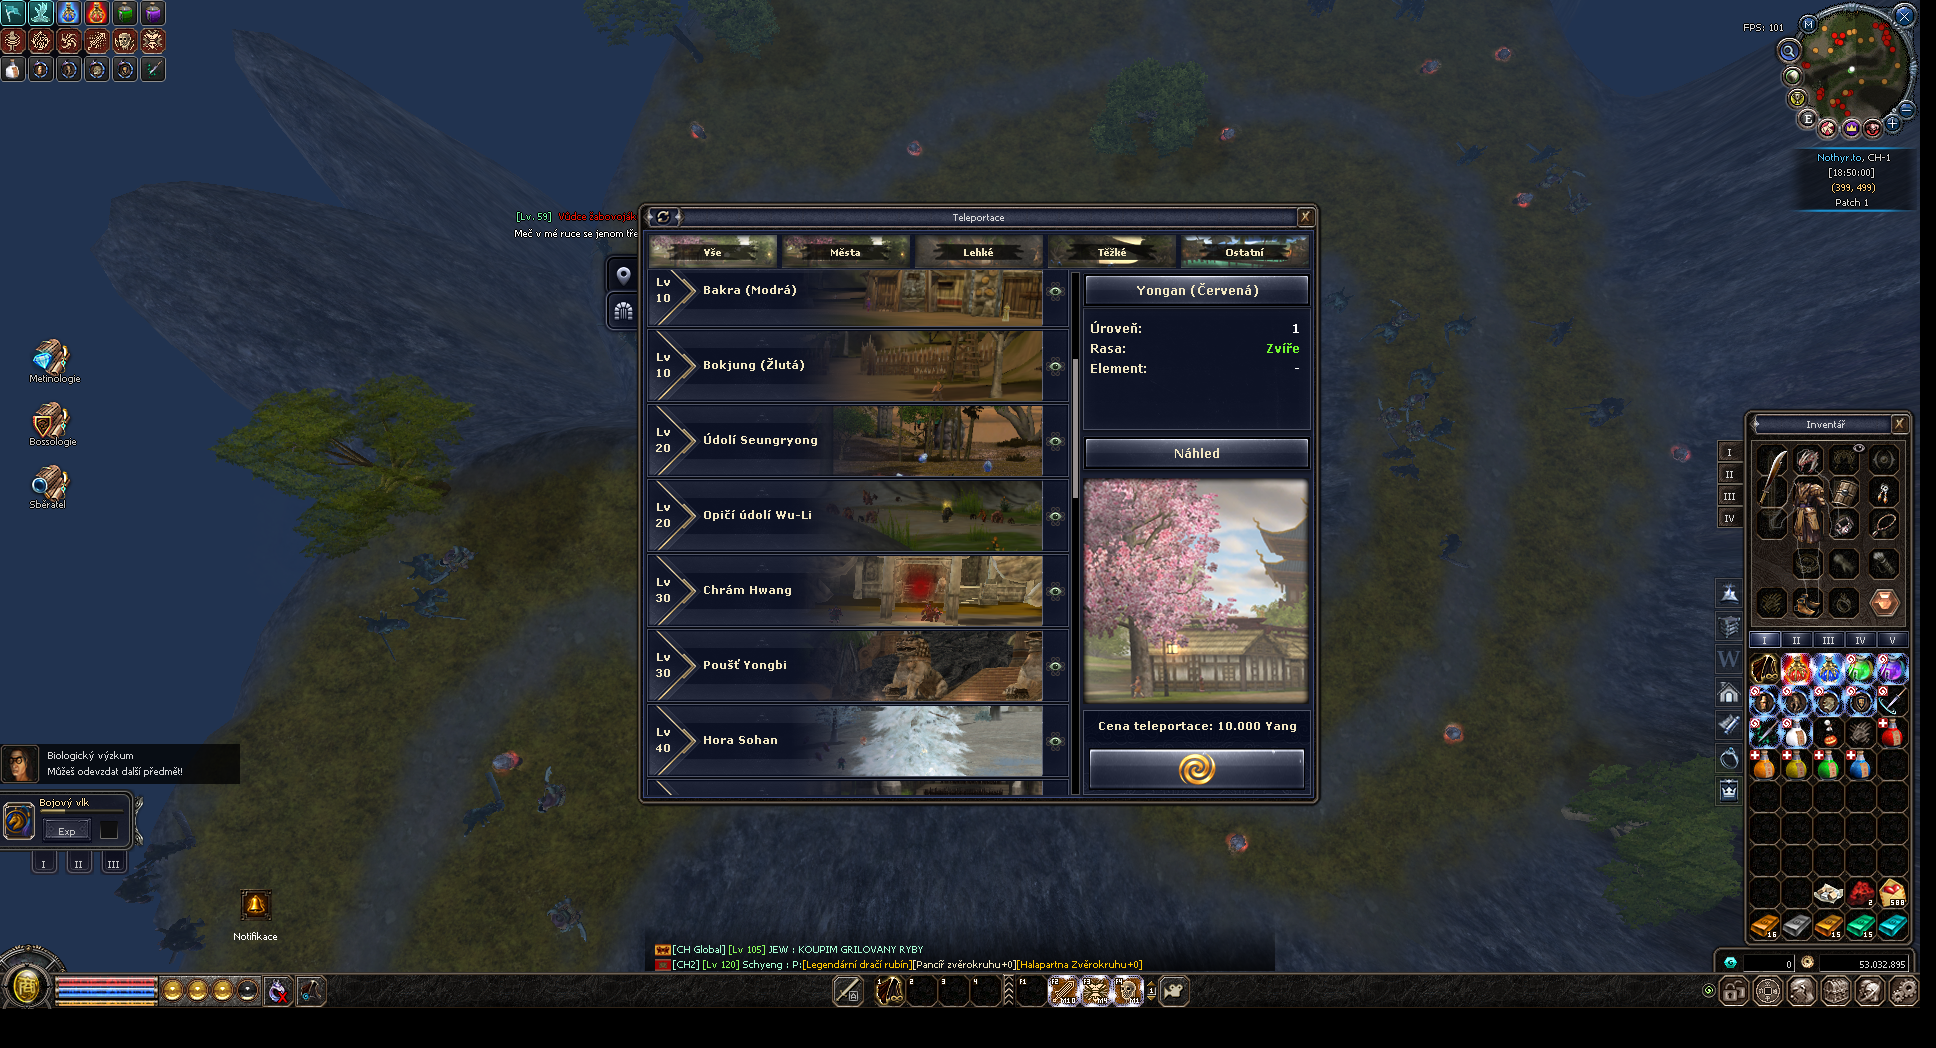Buff: (1672, 444, 1692, 464), (1228, 833, 1247, 854), (689, 121, 709, 140), (1512, 190, 1534, 207), (1419, 60, 1442, 76), (1219, 125, 1236, 144), (905, 140, 922, 157), (1446, 724, 1461, 742), (1497, 47, 1511, 63)
Enemy: (114, 812, 197, 903), (1408, 313, 1475, 384), (399, 546, 475, 585), (143, 812, 197, 865), (463, 776, 505, 838), (358, 612, 409, 661), (400, 586, 467, 621), (156, 917, 205, 963), (1372, 300, 1419, 345), (547, 897, 588, 942), (114, 862, 157, 904), (399, 553, 449, 584), (1577, 397, 1624, 428), (538, 767, 566, 814), (1529, 318, 1574, 346), (1536, 165, 1585, 189), (1439, 533, 1470, 569), (1425, 416, 1456, 450), (440, 546, 476, 573), (1377, 400, 1406, 430), (1406, 366, 1440, 391), (1388, 300, 1419, 327), (1455, 140, 1486, 166), (491, 750, 522, 774), (1527, 143, 1562, 164), (1402, 391, 1430, 417), (1394, 0, 1426, 22), (1566, 187, 1592, 214), (1325, 289, 1351, 312), (1381, 445, 1416, 460), (1403, 419, 1424, 442), (1390, 464, 1420, 480), (1307, 0, 1336, 16), (941, 503, 953, 524), (1000, 496, 1013, 514), (829, 608, 843, 623)
